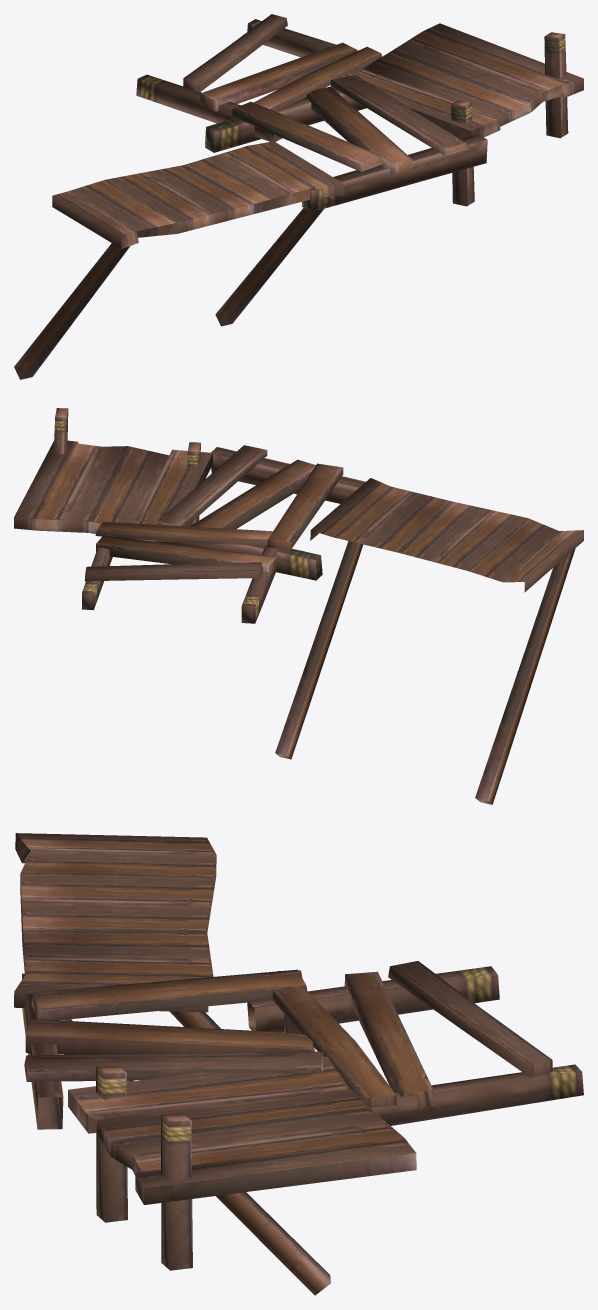
Rendered from qiao02.FBX.
3 views of the same model, one above another, from view 1: azimuth 30°, elevation 25°; view 2: azimuth 150°, elevation 25°; view 3: azimuth 270°, elevation 25° (orthographic). The views are drawn at different scales.
Parts seen in each view (by area): view 1: 2_YiZhan_ZhiQiao_01_07; view 2: 2_YiZhan_ZhiQiao_01_07; view 3: 2_YiZhan_ZhiQiao_01_07.
Boxes of the visible parts, x1,y1,x2,y2 form: 2_YiZhan_ZhiQiao_01_07: (14,14,583,379); 2_YiZhan_ZhiQiao_01_07: (14,408,583,804); 2_YiZhan_ZhiQiao_01_07: (14,833,583,1295).
Bounding box in the file's own units: 357 × 172 × 237.
